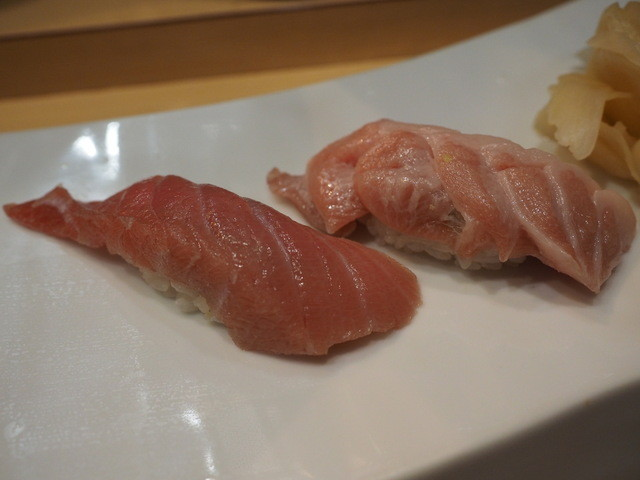medium_fatty_tuna: (43, 198, 398, 387)
